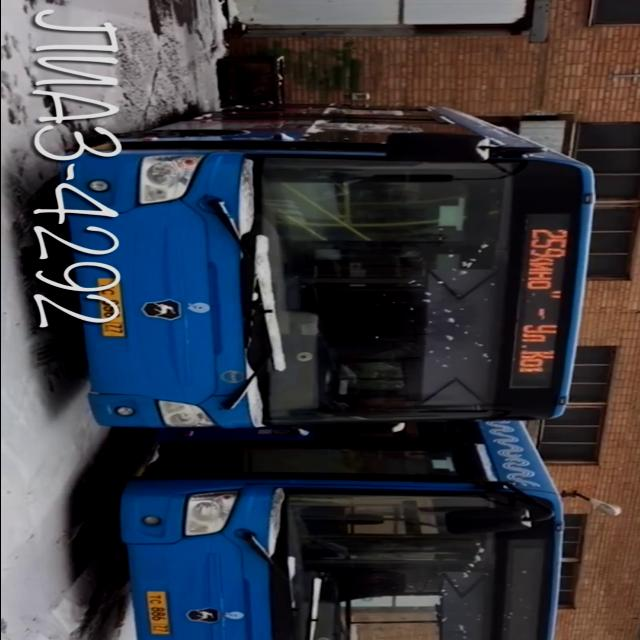bus: (31, 104, 601, 437), (39, 425, 608, 640)
